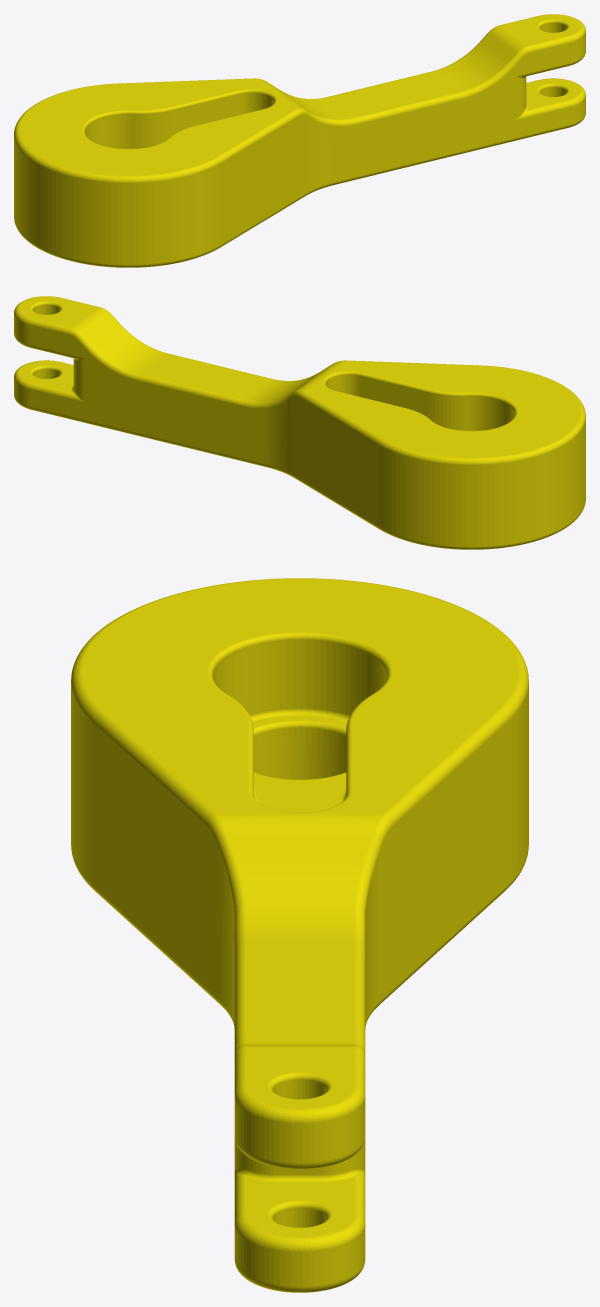
The model's file is sec_arm.dae.
The picture shows the model from 3 angles, top to bottom: view 1: azimuth 30°, elevation 25°; view 2: azimuth 150°, elevation 25°; view 3: azimuth 270°, elevation 25°; orthographic projection. The views are drawn at different scales.
Parts seen in each view (by area): view 1: Secondary Arm; view 2: Secondary Arm; view 3: Secondary Arm.
Boxes of the visible parts, x1=… form: Secondary Arm: x1=14, y1=14, x2=585, y2=267; Secondary Arm: x1=14, y1=296, x2=585, y2=549; Secondary Arm: x1=71, y1=578, x2=528, y2=1292.
Bounding box in the file's own units: 0.117 × 0.042 × 0.0185.
